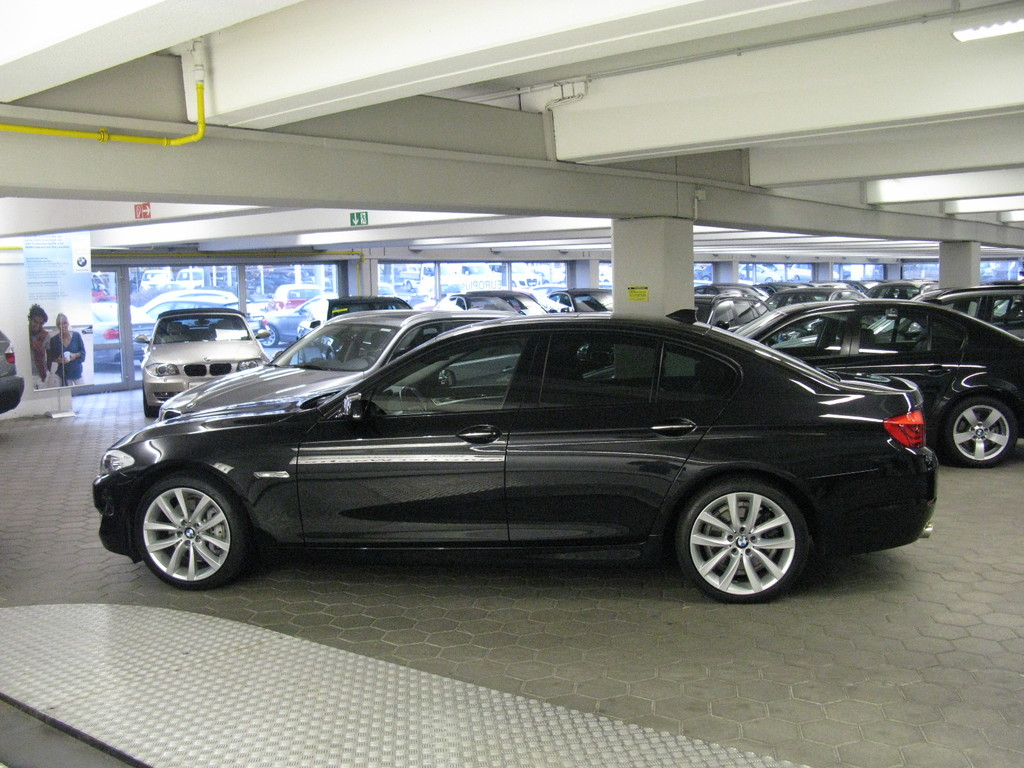Car: (91, 264, 1023, 471), (0, 327, 23, 416)
